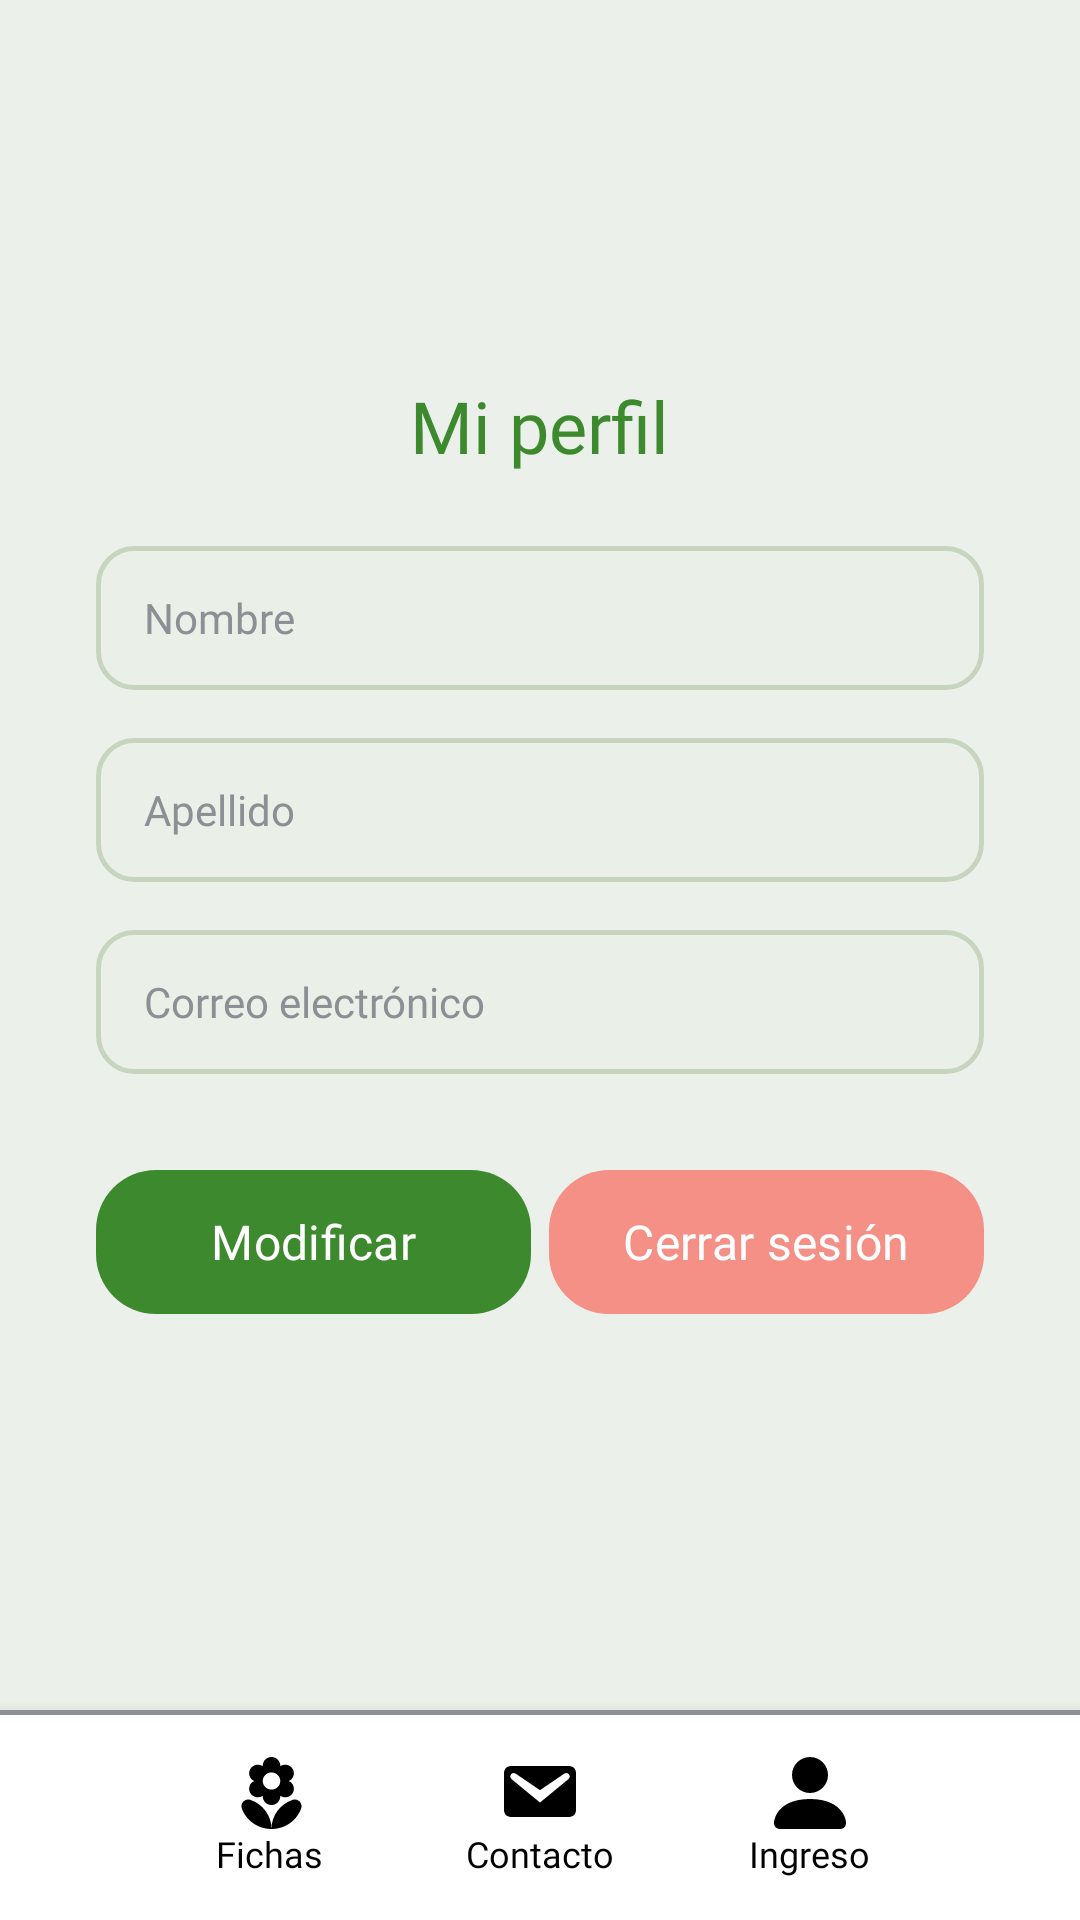

Icon click points for this 1080x1920 phone screenshot, format point (x, y):
usuario: point (810, 1793)
